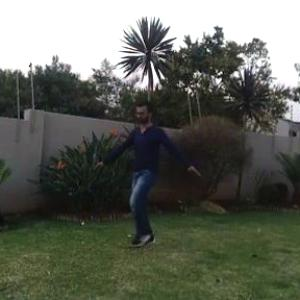land: (105, 83, 217, 266)
